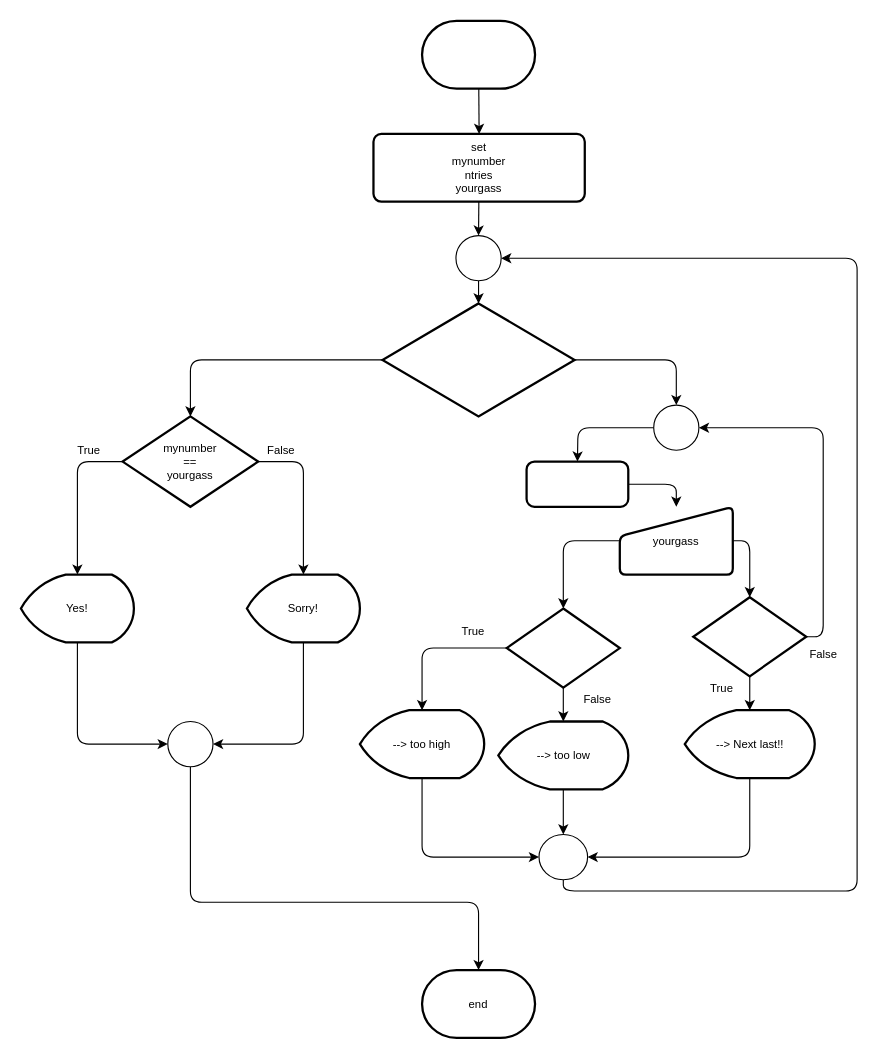
Image size: 886x1058. Some labels were removed from this diagram. Each missing label, with the box of its shape:
msg: (525, 460, 629, 507)
mynumber < yourgass: (505, 607, 620, 688)
ntries < 7 and mynumber != yourgass: (381, 302, 575, 417)
ntries == 6: (692, 596, 807, 677)
start: (420, 19, 536, 89)
